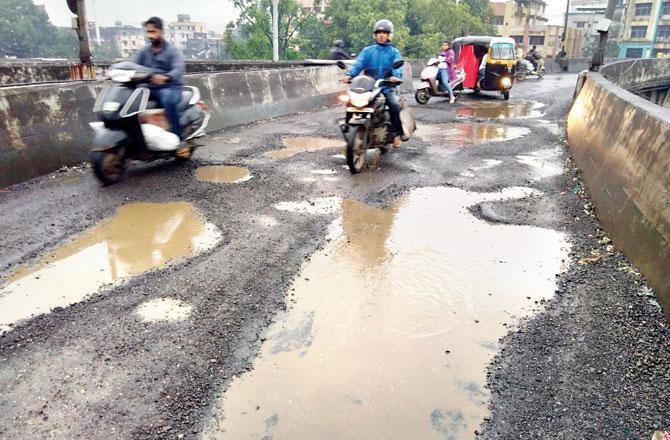pothole: (199, 173, 564, 439), (0, 201, 243, 337), (418, 117, 547, 158), (231, 129, 334, 160), (470, 85, 557, 118)
